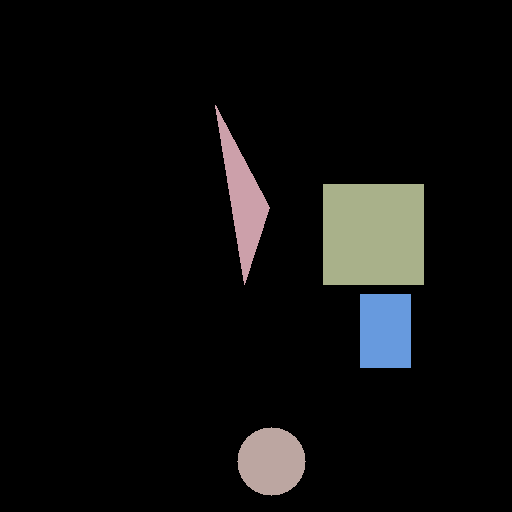circle: (237, 427, 305, 495)
rectangle: (360, 294, 410, 367)
square: (323, 184, 423, 284)
triangle: (215, 105, 269, 284)
